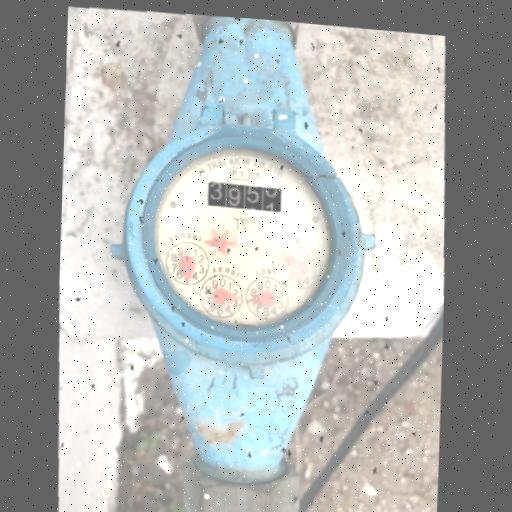0: (263, 188, 283, 212)
3: (209, 182, 227, 208)
5: (246, 186, 262, 210)
9: (227, 184, 245, 209)
border_water_meter_number: (207, 181, 283, 214)
